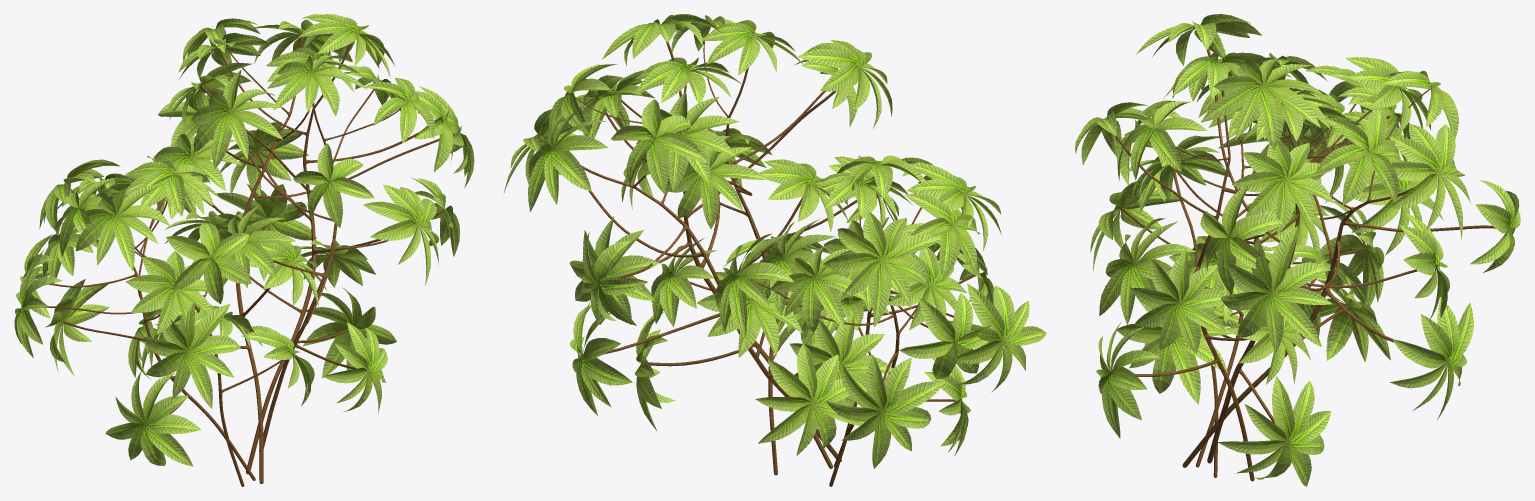
The model's file is Plant Hojas G N251220.obj.
3 views of the same model, side by side, from view 1: azimuth 30°, elevation 25°; view 2: azimuth 150°, elevation 25°; view 3: azimuth 270°, elevation 25° (orthographic). The views are drawn at different scales.
Parts seen in each view (by area): view 1: objArch31_024_obj_01, objArch31_024_obj_00; view 2: objArch31_024_obj_01, objArch31_024_obj_00; view 3: objArch31_024_obj_01, objArch31_024_obj_00.
Part boxes in pixels (left/top/right/bottom): objArch31_024_obj_01: left=14, top=14, right=474, bottom=466; objArch31_024_obj_00: left=34, top=37, right=454, bottom=486; objArch31_024_obj_01: left=504, top=14, right=1046, bottom=468; objArch31_024_obj_00: left=540, top=25, right=975, bottom=486; objArch31_024_obj_01: left=1075, top=14, right=1520, bottom=486; objArch31_024_obj_00: left=1115, top=48, right=1495, bottom=481.
Bounding box in the file's own units: 10.28 × 8.93 × 7.5.
